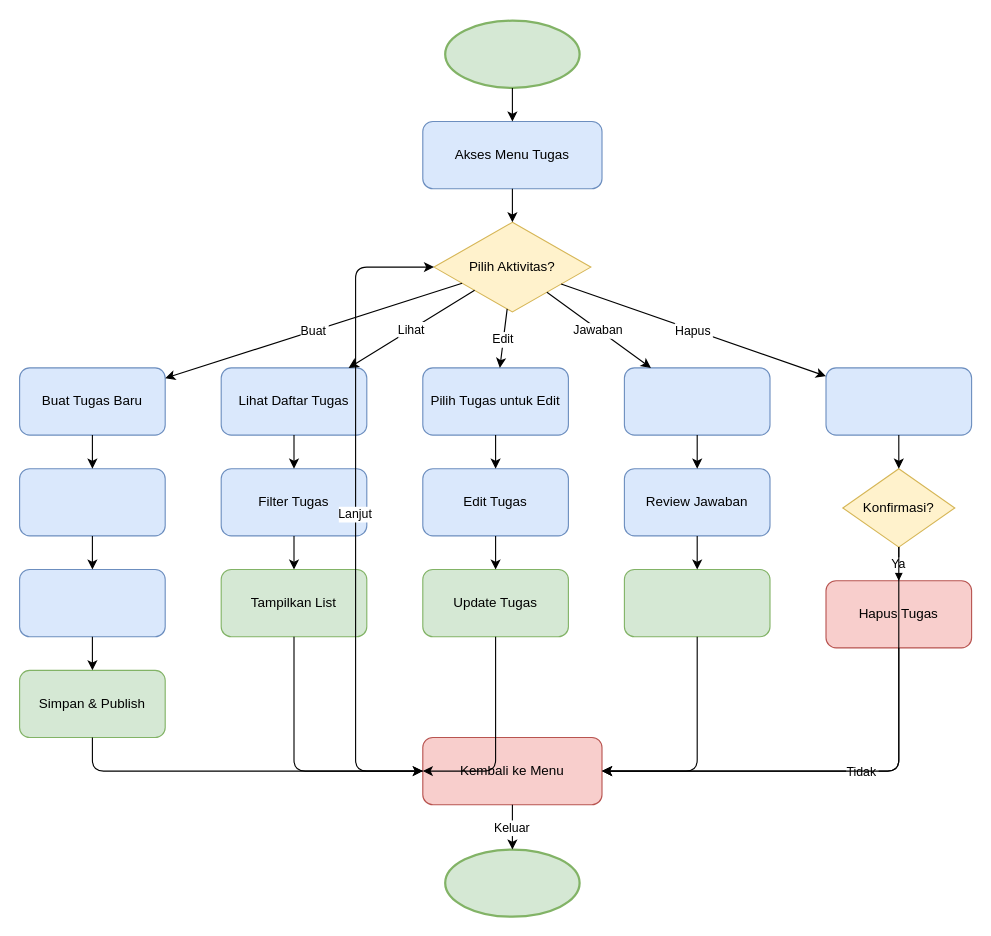
The diagram is 991 pixels wide and 936 high, and some of its shapes have lost their labels. The centre of each missing label's shape, as x and y in pixels:
"Beri Nilai & Feedback" goes at point (696, 602).
"Input Detail Tugas" goes at point (91, 502).
"Lihat Jawaban Siswa" goes at point (696, 401).
"Mulai" goes at point (512, 53).
"Pilih Tugas untuk Hapus" goes at point (898, 401).
"Selesai" goes at point (512, 882).
"Upload Lampiran" goes at point (91, 602).
